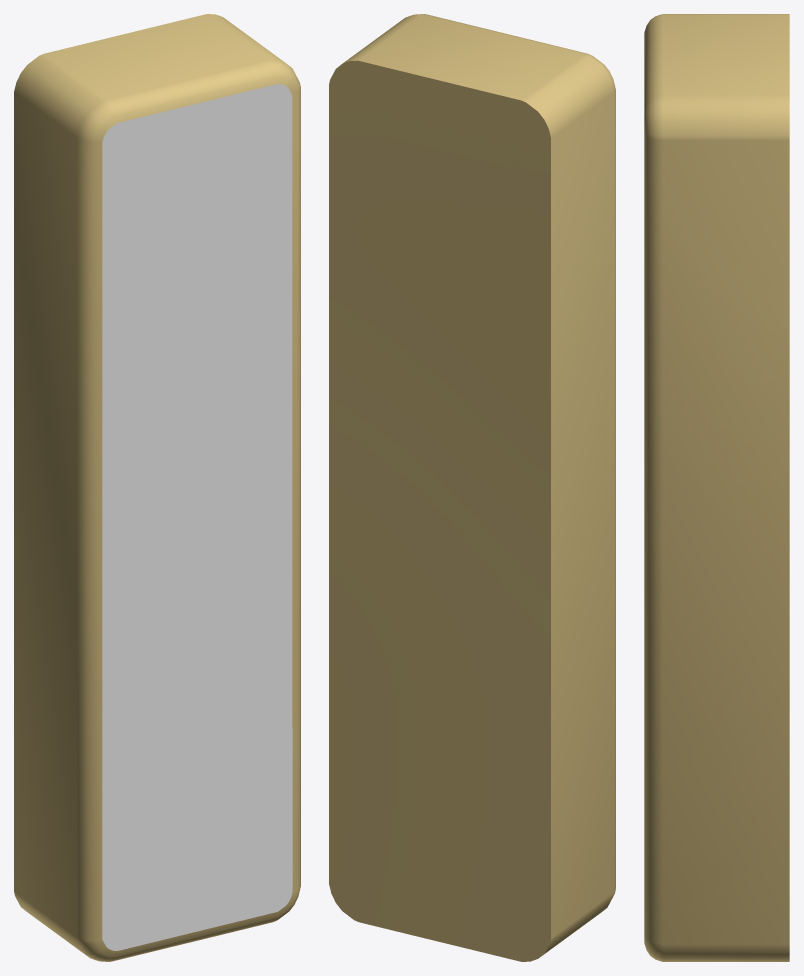
The model's file is LettersLightUp02_I.FBX.
The picture shows the model from 3 angles, left to right: view 1: azimuth 30°, elevation 25°; view 2: azimuth 150°, elevation 25°; view 3: azimuth 270°, elevation 25°; orthographic projection.
Parts seen in each view (by area): view 1: LettersLightUp02_I; view 2: LettersLightUp02_I; view 3: LettersLightUp02_I.
Part boxes in pixels (x1,y1,x2,y2): LettersLightUp02_I: (14, 14, 300, 961); LettersLightUp02_I: (329, 14, 615, 961); LettersLightUp02_I: (644, 14, 789, 961).
Size of what is drawn, in the model's own units: 0.1618 by 0.5996 by 0.0912.
